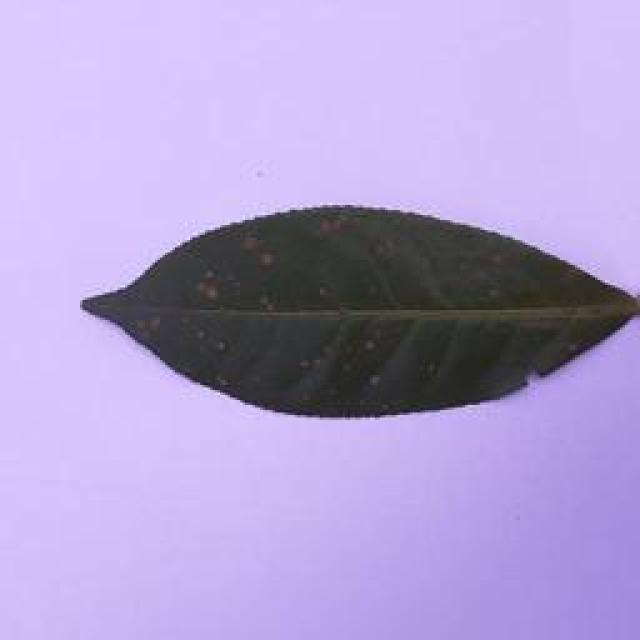Algal Leaf Spot: (72, 197, 640, 424)
